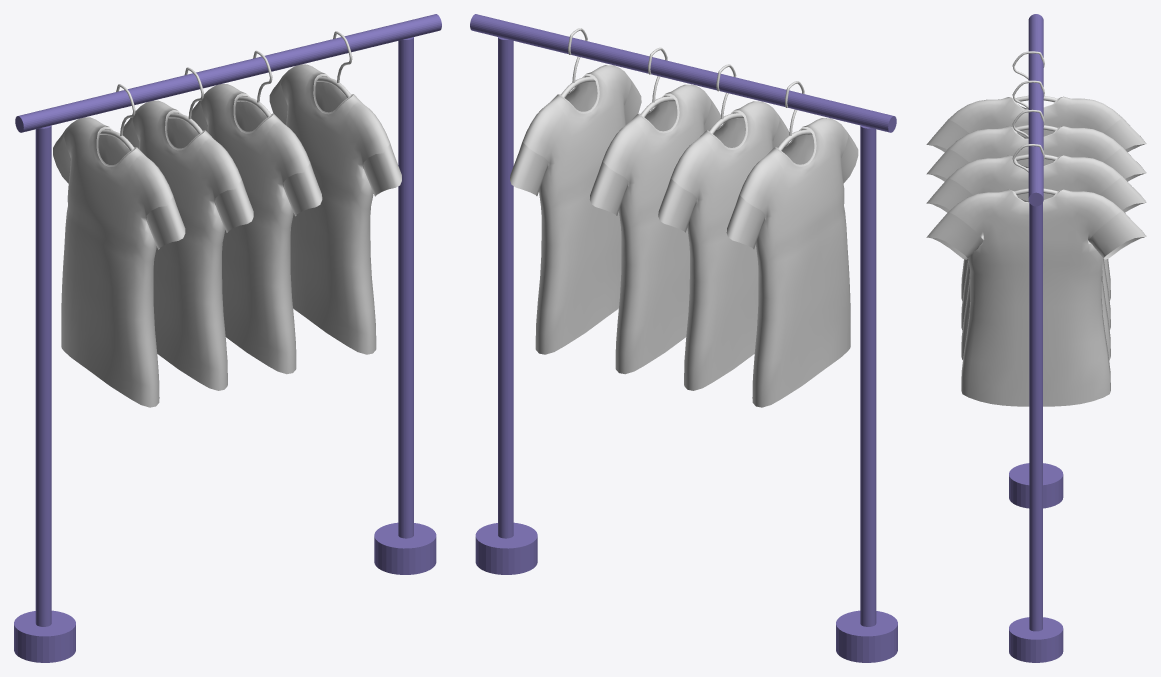
File: hunters_zeo_hanger.fbx
The picture shows the model from 3 angles, left to right: view 1: azimuth 30°, elevation 25°; view 2: azimuth 150°, elevation 25°; view 3: azimuth 270°, elevation 25°; orthographic projection. The views are drawn at different scales.
Visible parts, largest first — view 1: tshirt, rack.002; view 2: tshirt, rack.002; view 3: tshirt, rack.002.
Boxes of the visible parts, left/top/right/bottom form: tshirt: left=53, top=31, right=401, bottom=407; rack.002: left=14, top=14, right=441, bottom=662; tshirt: left=510, top=28, right=858, bottom=407; rack.002: left=470, top=14, right=897, bottom=662; tshirt: left=926, top=51, right=1146, bottom=406; rack.002: left=1009, top=14, right=1063, bottom=662.
Bounding box in the file's own units: 77.58 × 96.56 × 40.34.
